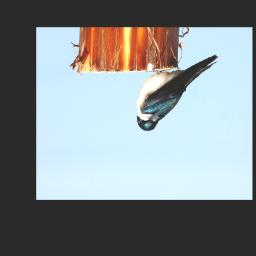Swallow: (136, 53, 219, 132)
